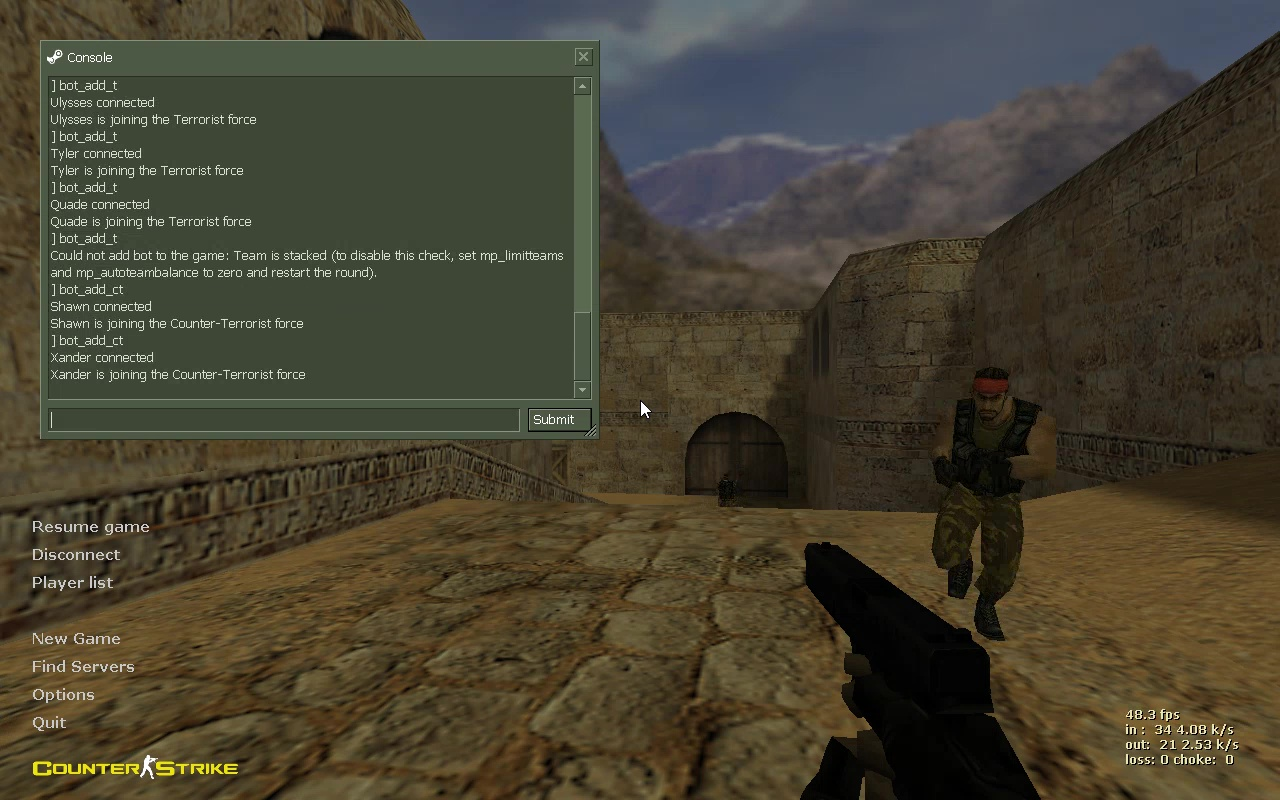terr1: (933, 369, 1059, 640), (714, 474, 744, 513)
